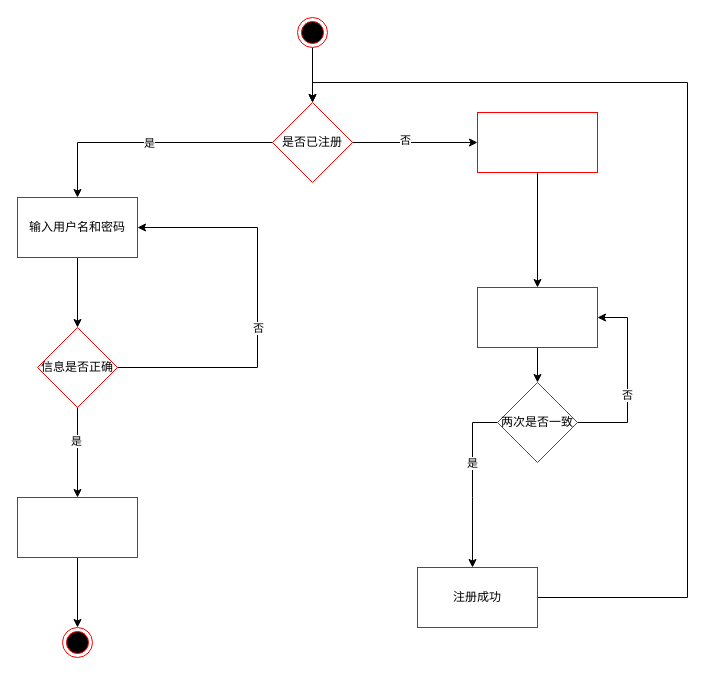
This 713x675 diagram has some shape labels left out. Here are the shapes that lost their labels. From the top down, the box of each, then its label:
(476, 112, 598, 172): 输入用户名、邮箱、密码
(476, 286, 598, 348): 再次确认密码
(16, 496, 138, 558): 登陆成功
